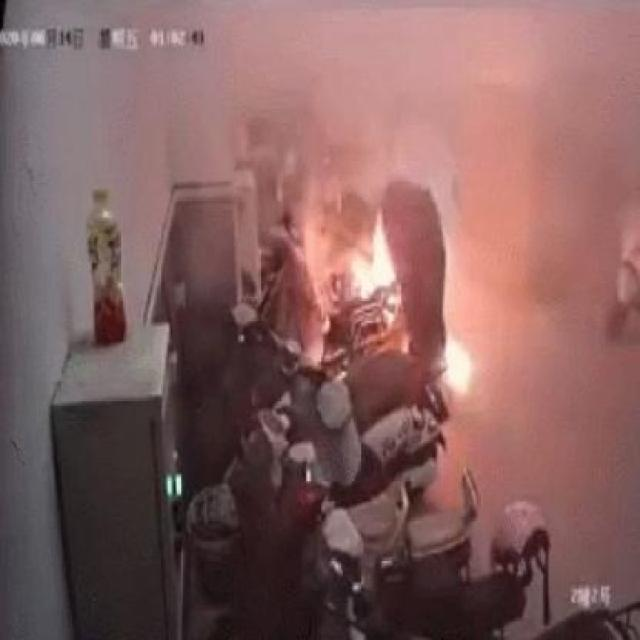Fire: (356, 215, 392, 292), (446, 331, 472, 397)
Smoke: (305, 23, 423, 225)
